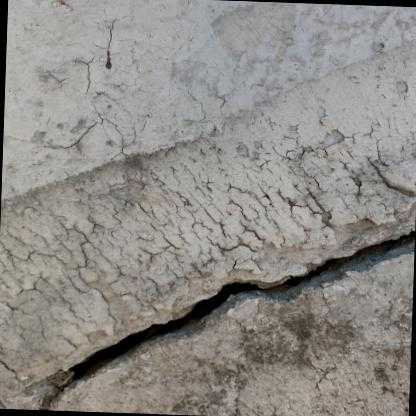crack: (22, 231, 415, 411)
